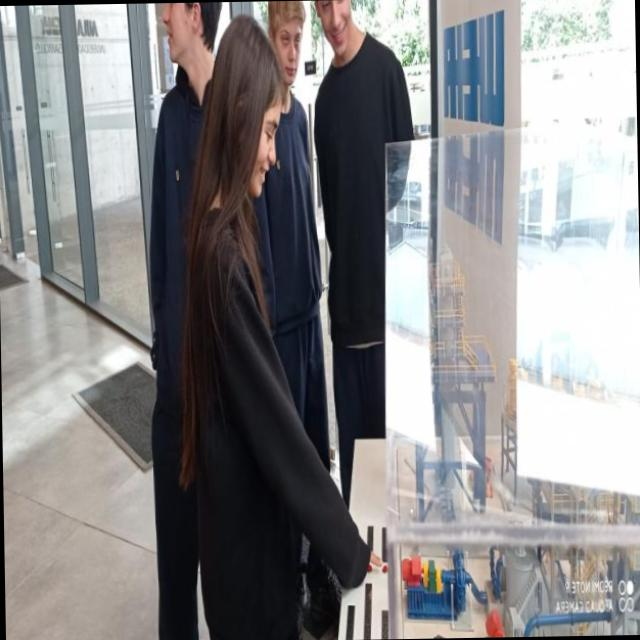person: (176, 11, 379, 640), (117, 1, 236, 640), (322, 0, 414, 504), (262, 0, 323, 433)
